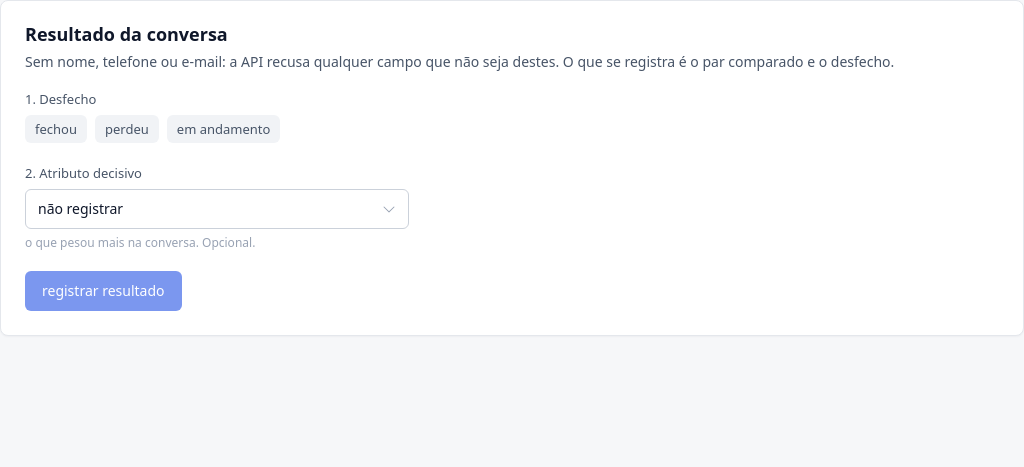
resultado: a numeração e o vocabulário › na perda, os motivos entram como 2 e o atributo vira 3
This screenshot has width=1024, height=467.
Click the button "perdeu" at {"x": 127, "y": 129}, box [95, 115, 159, 143]
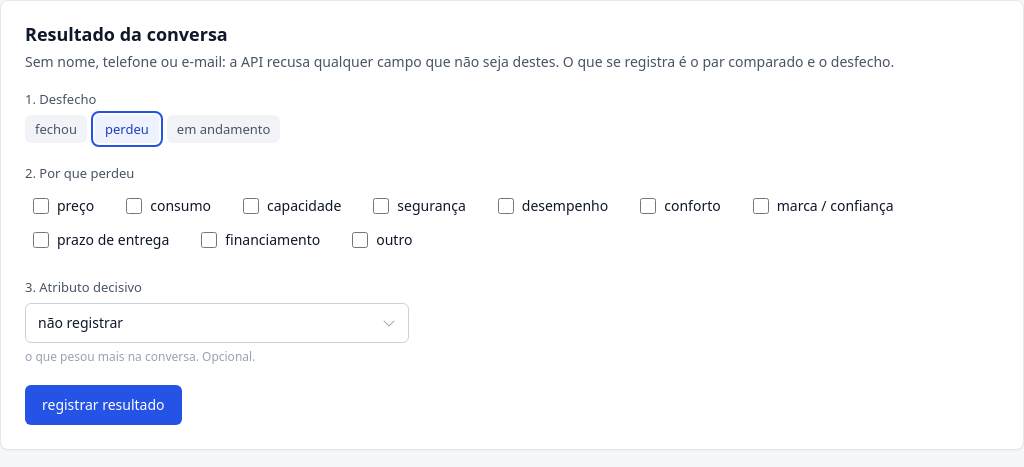
Expected: the text "2. Por que perdeu" is shown, [25, 163, 134, 183]
Expected: the text "3. Atributo decisivo" is shown, [25, 278, 142, 296]
Expected: the text "2. Atributo decisivo" is gone
